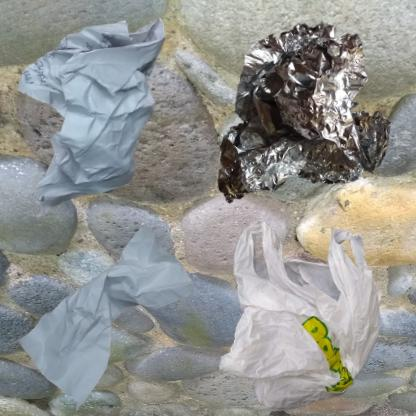aluminio: (213, 10, 407, 226)
bolsa: (213, 213, 398, 416)
papel: (10, 213, 204, 416), (10, 10, 187, 223)
